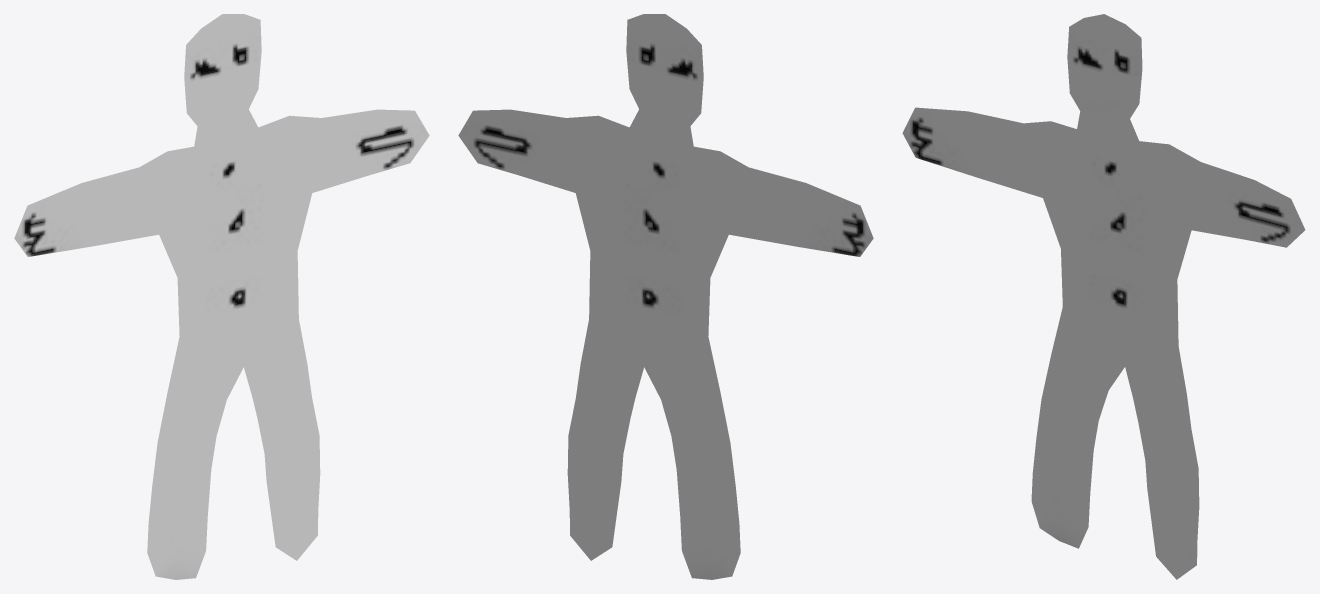
The model's file is 2dtest.obj.
The picture shows the model from 3 angles, left to right: view 1: azimuth 30°, elevation 25°; view 2: azimuth 150°, elevation 25°; view 3: azimuth 330°, elevation 25°; orthographic projection. The views are drawn at different scales.
Visible parts, largest first — view 1: Plane_Plane; view 2: Plane_Plane; view 3: Plane_Plane.
Boxes of the visible parts, box(x1,y1,x2,y2) form: Plane_Plane: box(14, 14, 429, 579); Plane_Plane: box(458, 14, 873, 579); Plane_Plane: box(902, 14, 1305, 579).
Bounding box in the file's own units: 5.34 × 6.95 × 0.000632.
